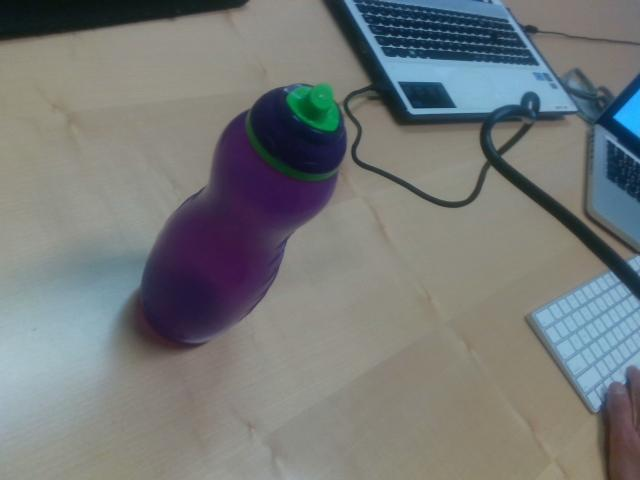bottle: (140, 82, 348, 345)
